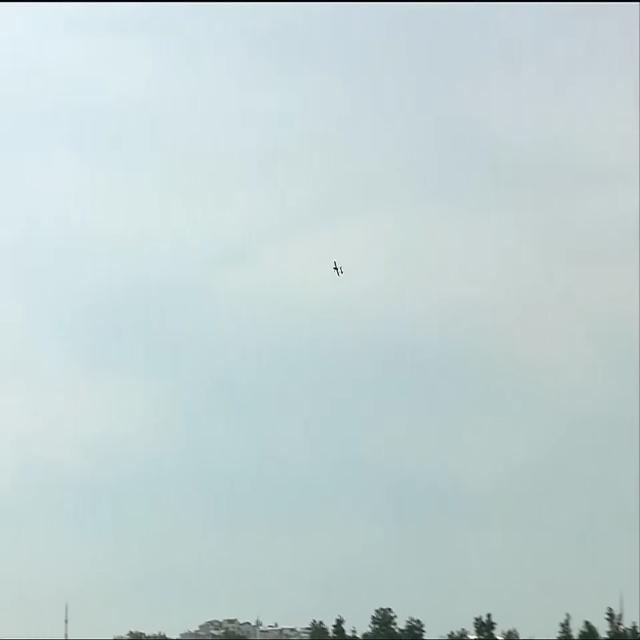iha: (332, 253, 345, 271)
